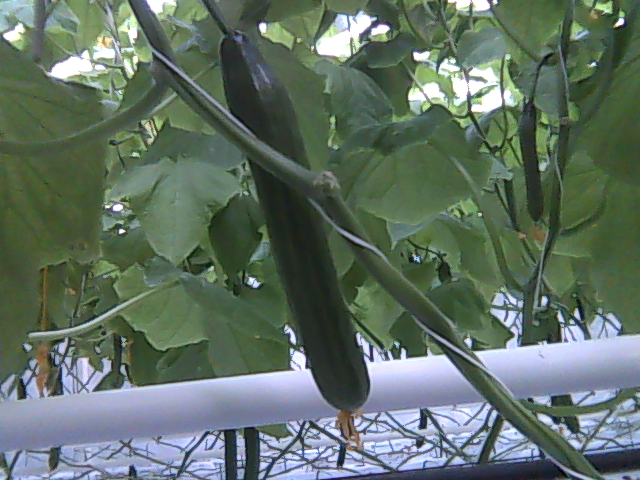concombre: (216, 22, 371, 454)
